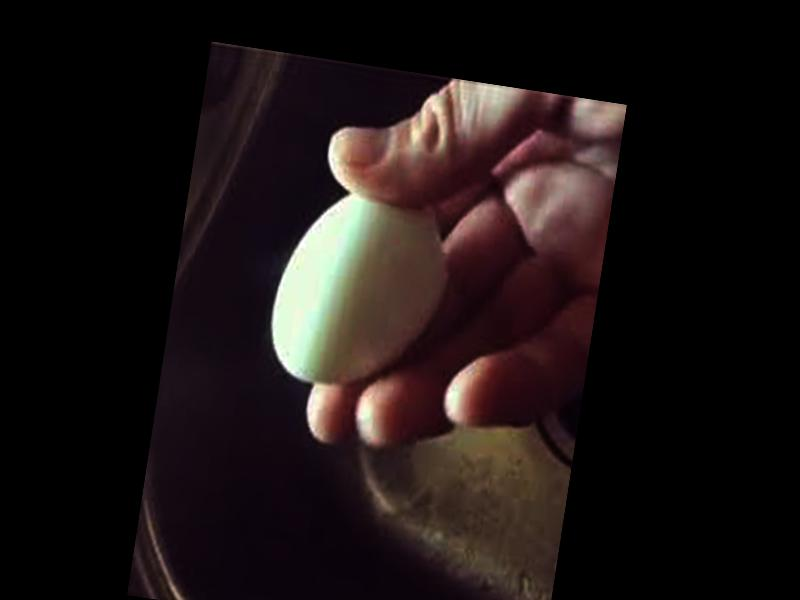Eggs: (262, 182, 454, 400)
